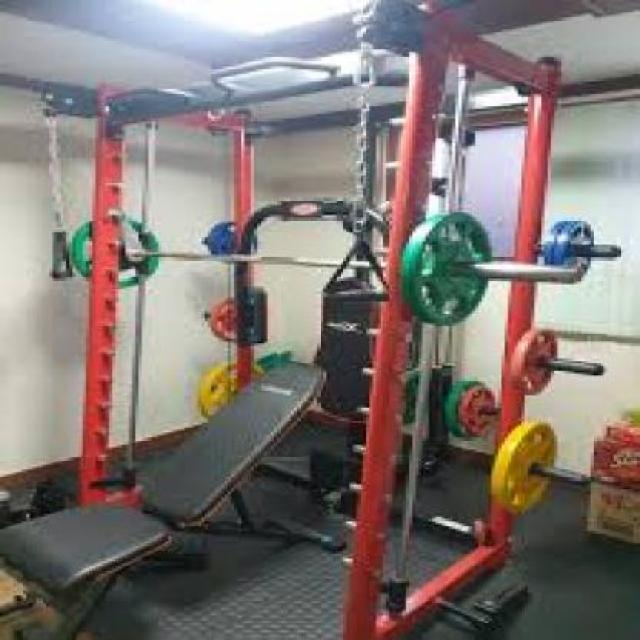smith machine: (41, 3, 622, 640)
